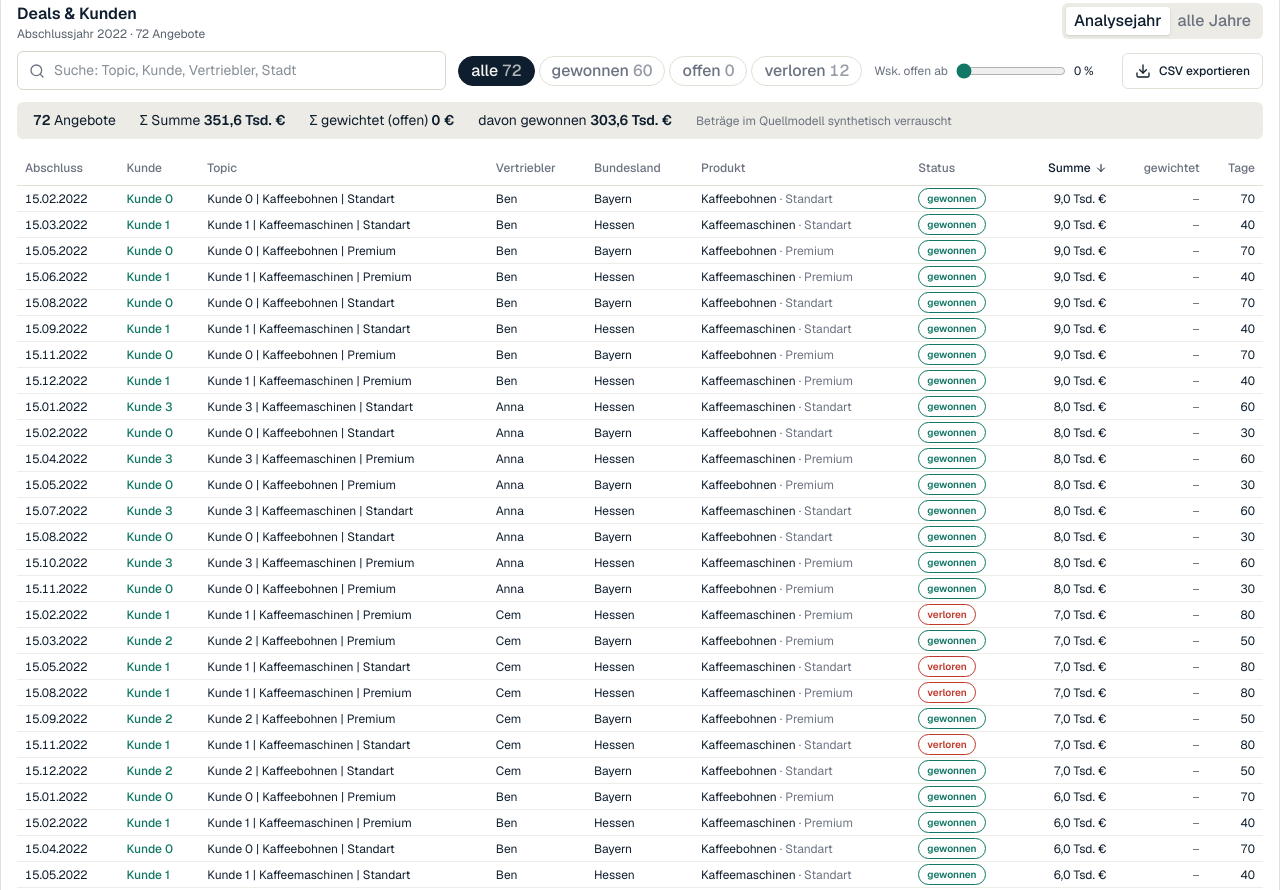
it: DealsPage › switches the date scope to all years
Click the radio button labelled "alle Jahre". click: (1214, 21)
box: [1170,7,1259,35]
(page scrolled)
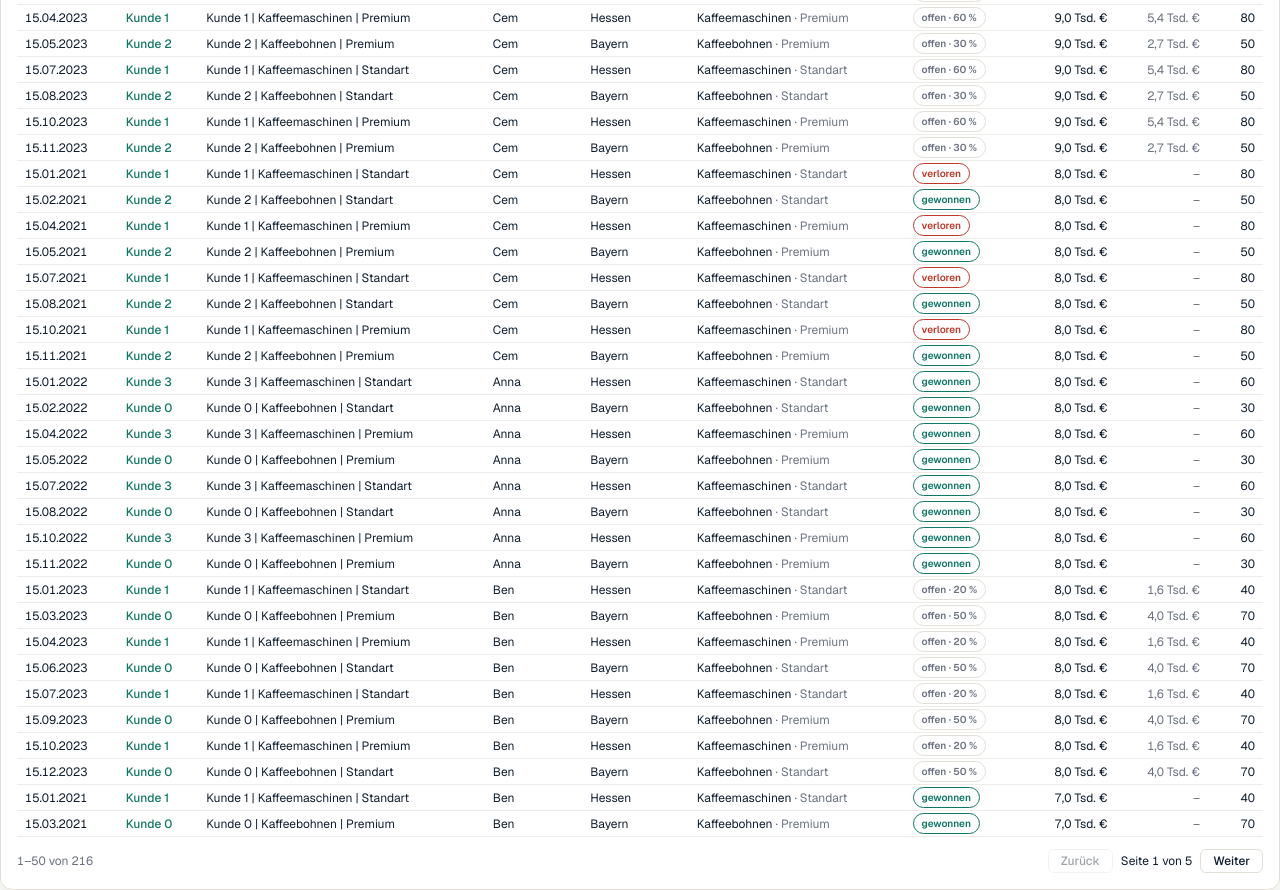
Expected: the text "Seite 1 von 5" is shown, [1121,852,1192,870]
